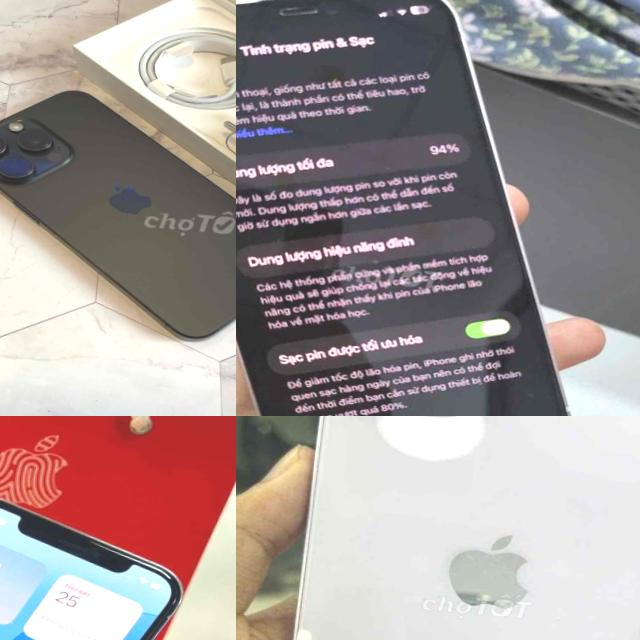gen_12_13: (236, 0, 612, 416), (0, 471, 189, 640)
gen_14: (263, 416, 640, 640)
gen_15: (0, 72, 236, 360)
